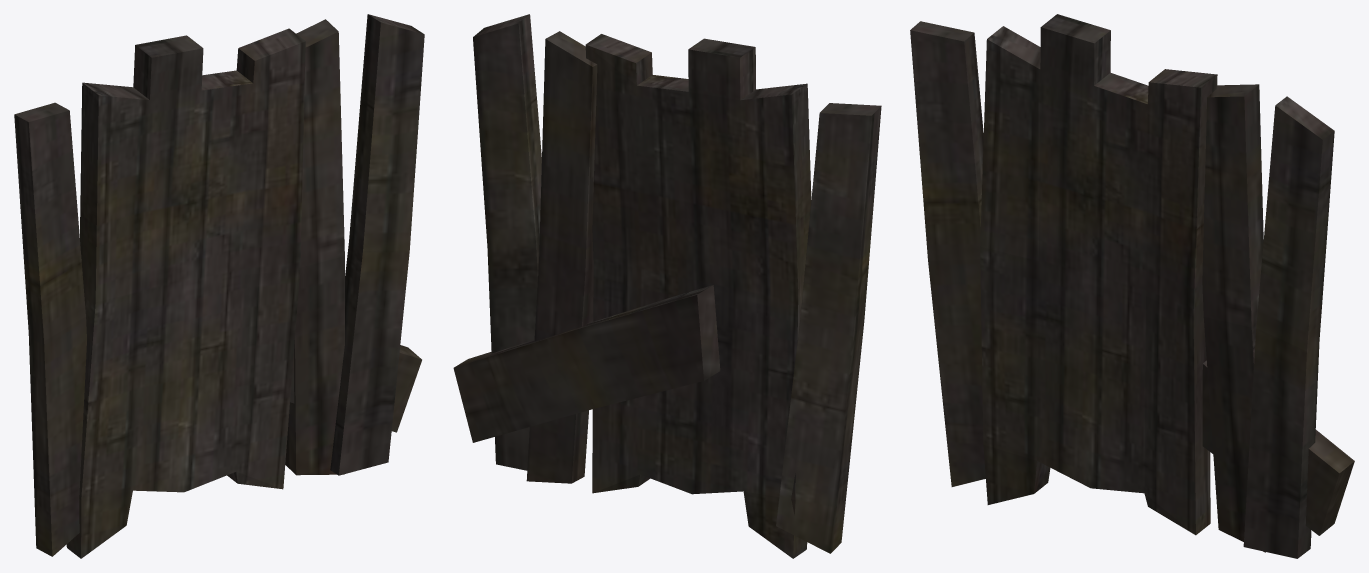
File: Battle05_Wall_03.FBX
The picture shows the model from 3 angles, left to right: view 1: azimuth 30°, elevation 25°; view 2: azimuth 150°, elevation 25°; view 3: azimuth 330°, elevation 25°; orthographic projection. The views are drawn at different scales.
Visible parts, largest first — view 1: Battle05_Wall_03; view 2: Battle05_Wall_03; view 3: Battle05_Wall_03.
Boxes of the visible parts, x1=… form: Battle05_Wall_03: x1=14, y1=14, x2=424, y2=558; Battle05_Wall_03: x1=453, y1=14, x2=881, y2=558; Battle05_Wall_03: x1=910, y1=14, x2=1354, y2=558.
Bounding box in the file's own units: 3.78 × 4.34 × 0.6577.
